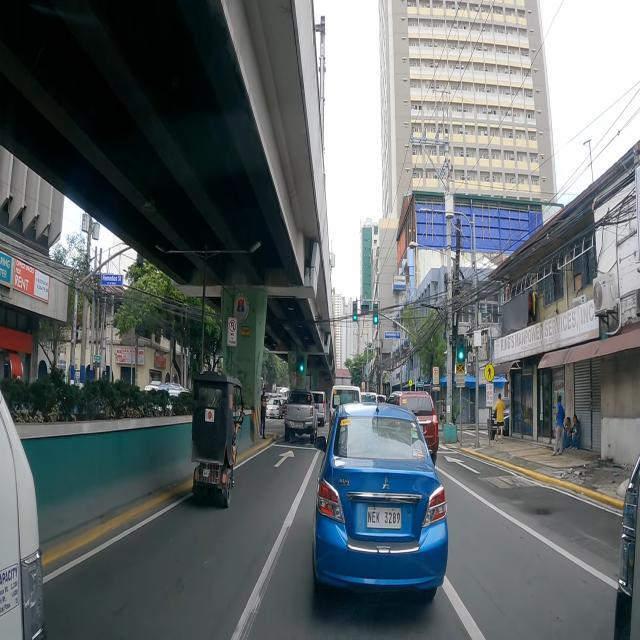car: (312, 402, 448, 600), (386, 391, 438, 463), (284, 389, 320, 444), (266, 398, 283, 419)
tricycle: (192, 372, 244, 507)
